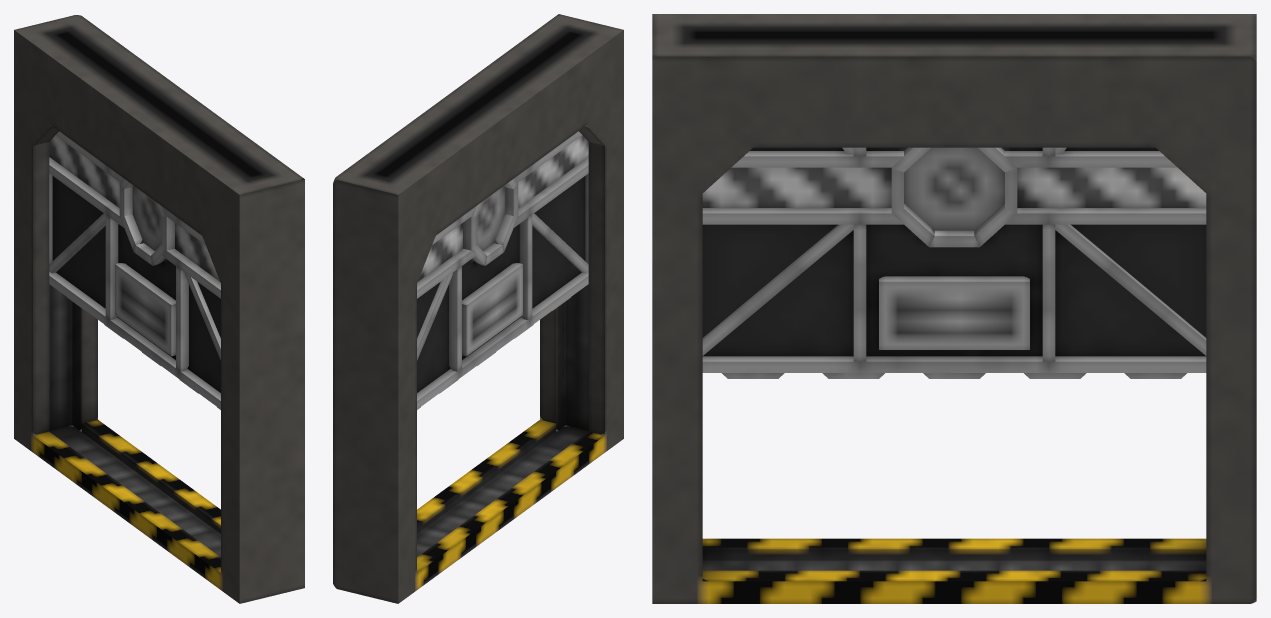
File: qe_containment_77.obj
3 renders of one model, left to right at view 1: azimuth 30°, elevation 25°; view 2: azimuth 150°, elevation 25°; view 3: azimuth 270°, elevation 25°, orthographic. The views are drawn at different scales.
Parts seen in each view (by area): view 1: Frame, Door; view 2: Frame, Door; view 3: Frame, Door.
Part boxes in pixels (bbox=[...]): Frame: bbox=[14, 15, 304, 603]; Door: bbox=[49, 125, 220, 409]; Frame: bbox=[333, 14, 623, 603]; Door: bbox=[417, 125, 588, 409]; Frame: bbox=[652, 14, 1256, 603]; Door: bbox=[702, 147, 1206, 378].
Size of the model in its own units: 0.5 by 3 by 3.
